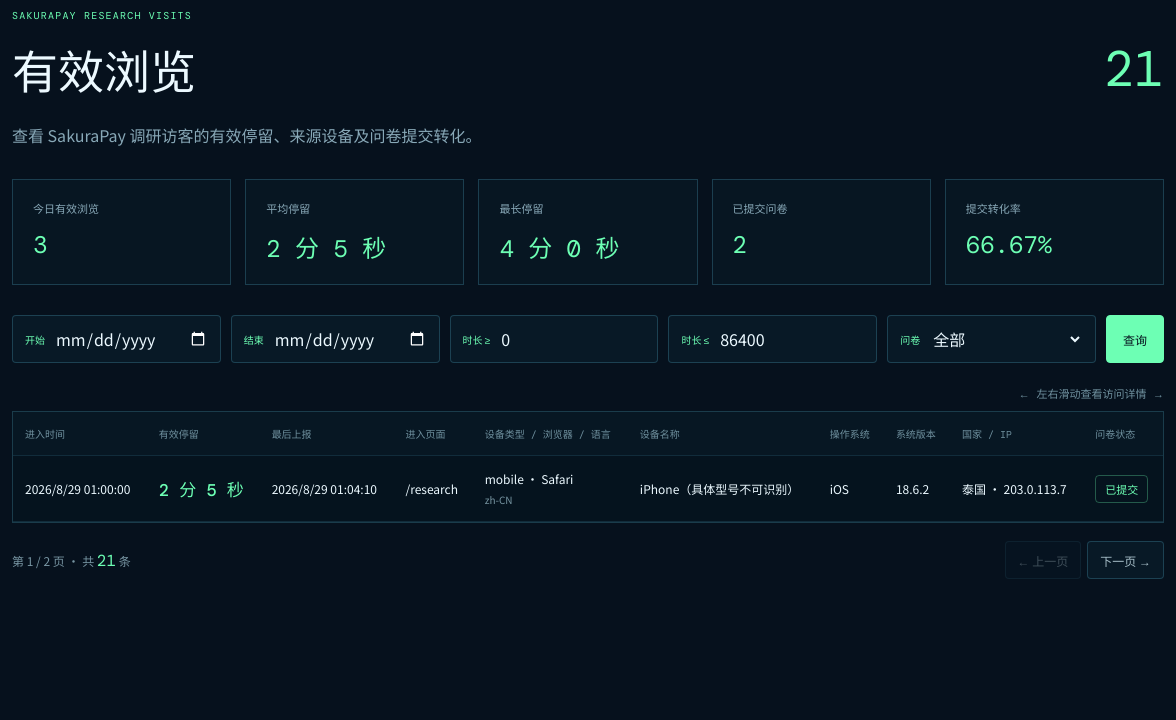
it: ResearchVisitsModule › resets to page zero with disabled controls when a page request fails
Click the button with test id "visits-next".
click(1126, 560)  # box [1087, 541, 1164, 579]
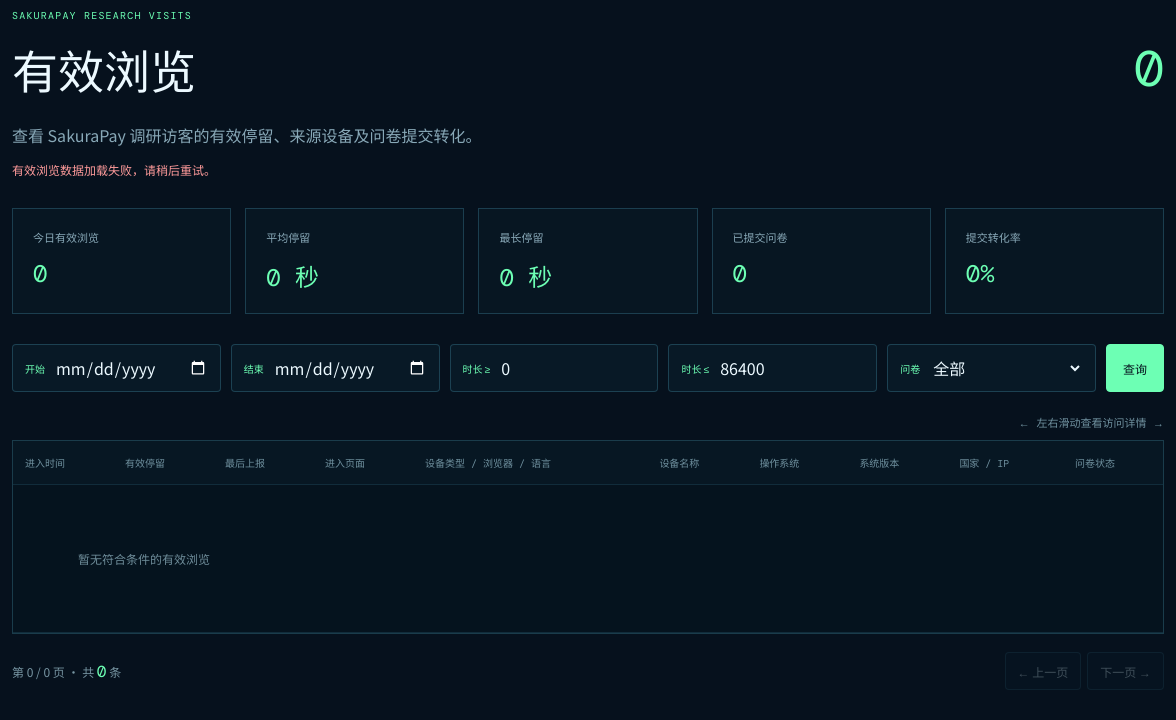
Expected: the button with test id "visits-previous" is disabled, [1005, 652, 1081, 690]
Expected: the element with test id "visits-page-status" reads "第 0 / 0 页 · 共 0 条", [12, 661, 121, 682]
Expected: the button with test id "visits-next" is disabled, [1087, 652, 1164, 690]
